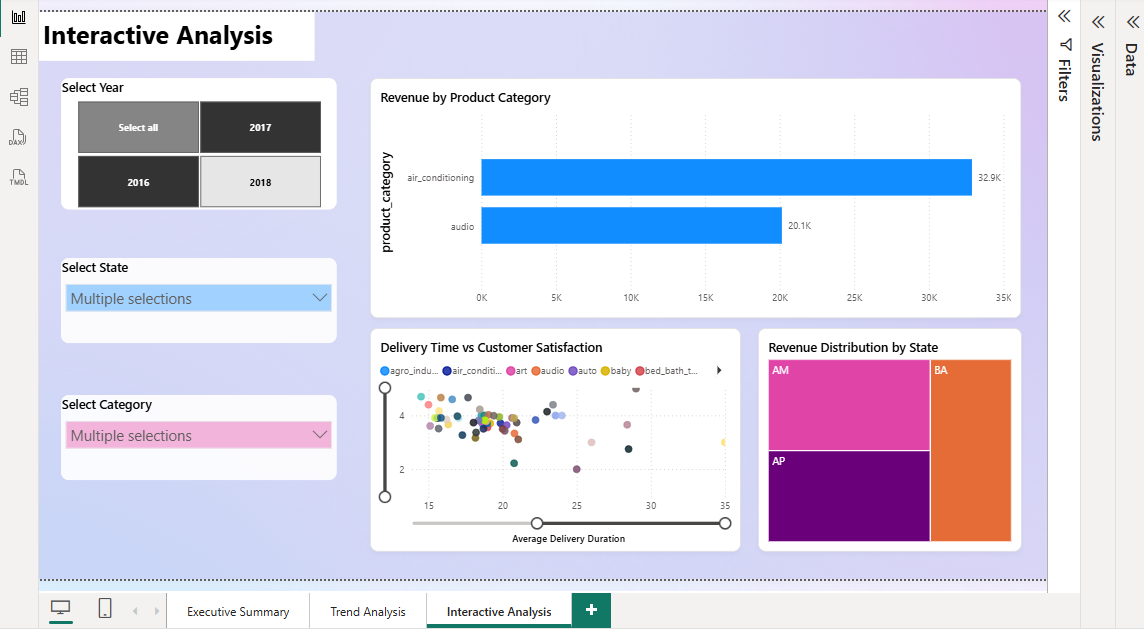

This screenshot's page, from the dashboard's own definition file:
{"tool":"powerbi","page":{"name":"Interactive Analysis","canvas":[1280,720],"ordinal":2},"visuals":[{"type":"textbox","box":[0,0,349.9,61.7],"z":0},{"type":"slicer","title":"Select Year","fields":{"Values":["DM_Sales_Revenue.year"]},"box":[27.4,83.7,349.9,167.4],"z":1000},{"type":"slicer","title":"Select State","fields":{"Values":["DM_Customer_Experience.customer_state"]},"box":[27.4,312.9,349.9,108.4],"z":2000},{"type":"slicer","title":"Select Category","fields":{"Values":["DM_Sales_Revenue.product_category"]},"box":[27.4,485.8,349.9,108.4],"z":3000},{"type":"clusteredBarChart","title":"Revenue by Product Category","fields":{"Y":["DM_Sales_Revenue.Total Revenue"],"Category":["DM_Sales_Revenue.product_category"]},"box":[419.9,83.7,827.4,304.6],"z":4000},{"type":"scatterChart","title":"Delivery Time vs Customer Satisfaction","fields":{"X":["DM_Customer_Experience.Average Delivery Duration"],"Y":["DM_Customer_Experience.Average Review Score"],"Series":["DM_Customer_Experience.product_category"]},"box":[419.9,400.7,470.7,284],"z":5000},{"type":"treemap","title":"Revenue Distribution by State","fields":{"Group":["DM_Customer_Experience.customer_state"],"Values":["DM_Sales_Revenue.Total Revenue"]},"box":[912.5,400.7,334.8,284],"z":6000}]}

Visuals, with their boxes on the page's 1280x720 design canvas (x1, y1, x2, y2). These are canvas units, not pixel positions in the 1144x629 screenshot, which may show the page scaled, cropped or inside an application window:
textbox: Rect(0, 0, 350, 62)
"Select Year" slicer: Rect(27, 84, 377, 251)
"Select State" slicer: Rect(27, 313, 377, 421)
"Select Category" slicer: Rect(27, 486, 377, 594)
"Revenue by Product Category" clusteredBarChart: Rect(420, 84, 1247, 388)
"Delivery Time vs Customer Satisfaction" scatterChart: Rect(420, 401, 891, 685)
"Revenue Distribution by State" treemap: Rect(912, 401, 1247, 685)
